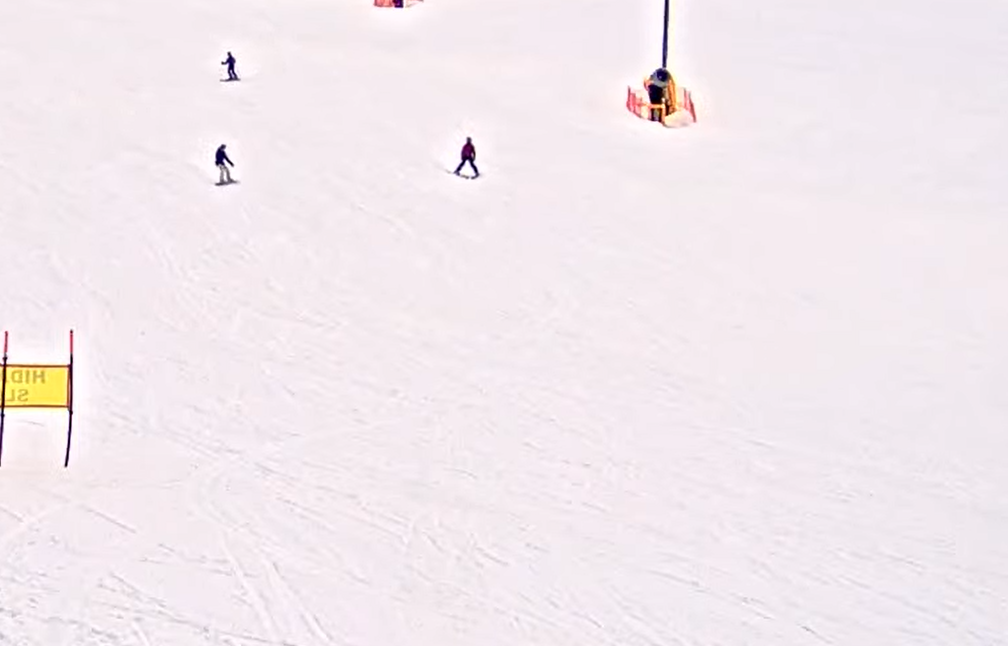skier: (217, 46, 244, 86)
snowboarder: (449, 130, 482, 179), (211, 142, 240, 189)
